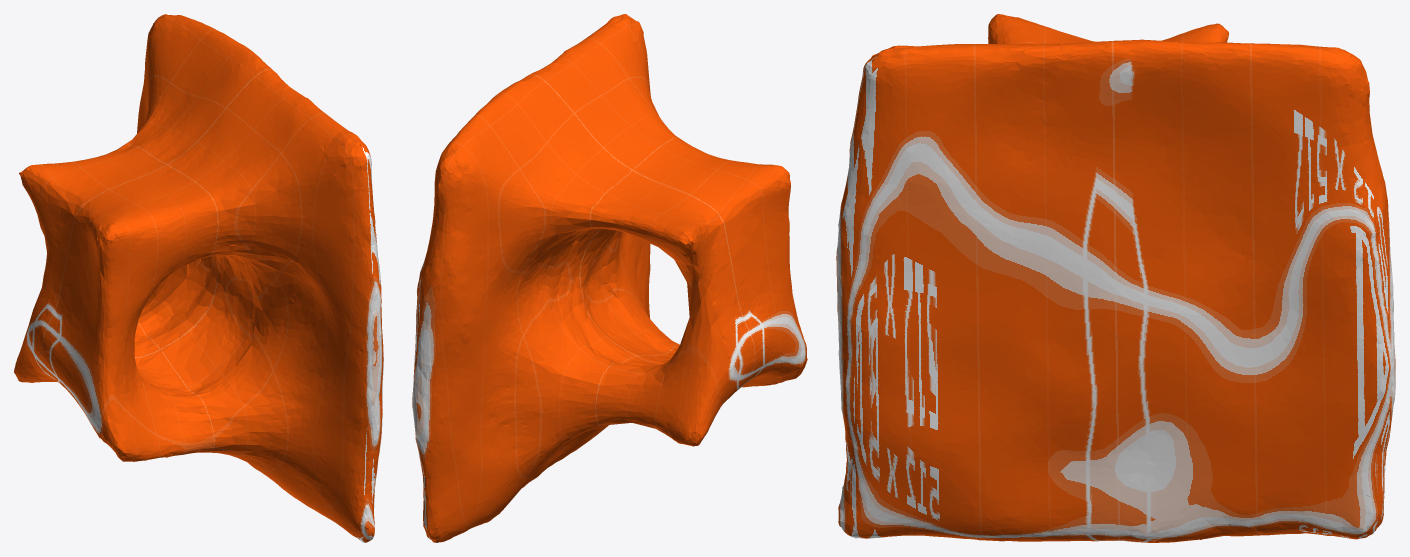
3 renders of one model, left to right at view 1: azimuth 30°, elevation 25°; view 2: azimuth 150°, elevation 25°; view 3: azimuth 270°, elevation 25°, orthographic. The views are drawn at different scales.
Visible parts, largest first — view 1: Renderer Node; view 2: Renderer Node; view 3: Renderer Node.
Part boxes in pixels (box(x1,y1,x2,y2)): Renderer Node: box(14, 14, 383, 542); Renderer Node: box(412, 14, 807, 542); Renderer Node: box(836, 14, 1395, 542).
Bounding box in the file's own units: 0.3953 × 0.6284 × 0.6325.
1 material, 1 textured.
